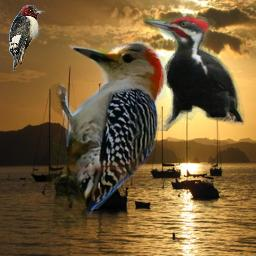Woodpecker: (46, 33, 189, 228), (143, 9, 246, 131), (9, 5, 45, 71)
